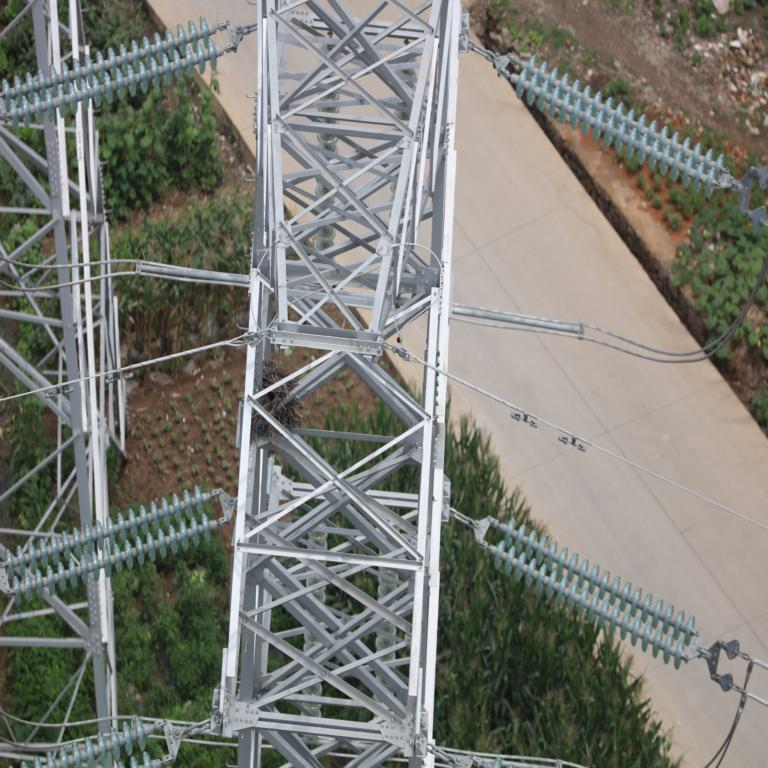nest: (256, 359, 295, 439)
